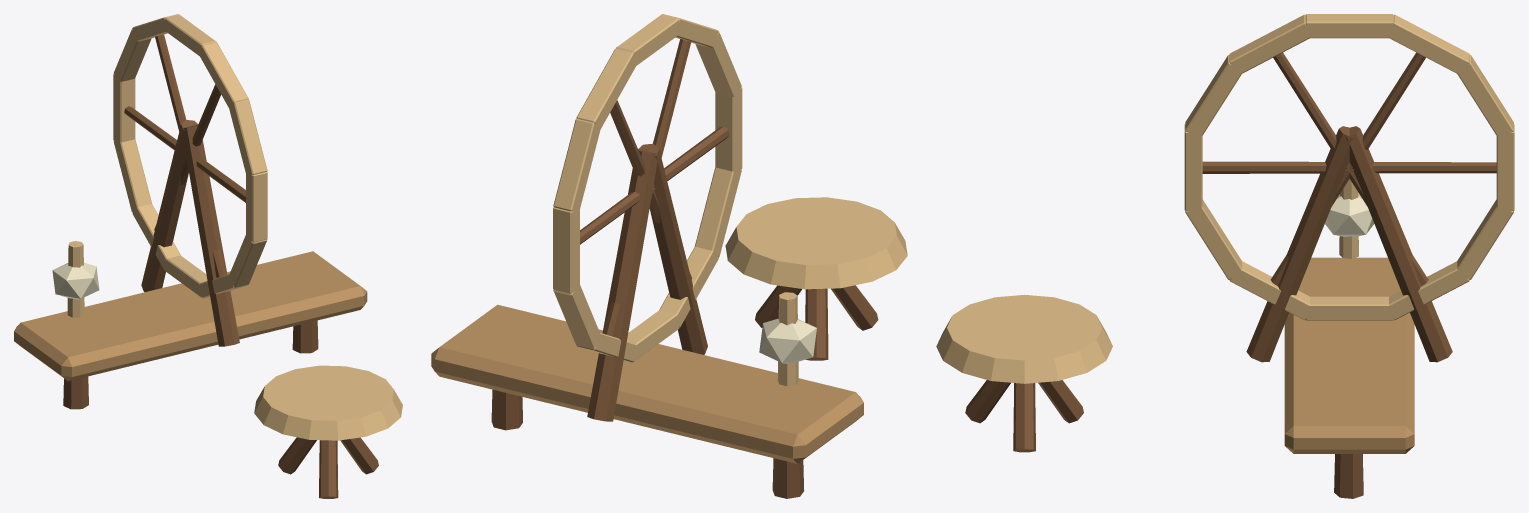
The model's file is CC_SpinningWheel.fbx.
The picture shows the model from 3 angles, left to right: view 1: azimuth 30°, elevation 25°; view 2: azimuth 150°, elevation 25°; view 3: azimuth 270°, elevation 25°; orthographic projection. The views are drawn at different scales.
Parts seen in each view (by area): view 1: Wheel bench, Stool seat, Wheel upright, Wheel upright.001, Rim.007, Rim.013, Rim.008, Rim.006, Yarn, Rim.002, Spoke.008, Spoke.009 (+14 smaller); view 2: Wheel bench, Stool seat, Wheel upright.001, Wheel upright, Rim.003, Rim.009, Rim.002, Rim.004, Yarn, Rim.008, Spoke.008, Spoke.010 (+14 smaller); view 3: Wheel bench, Stool seat, Wheel upright, Wheel upright.001, Spoke.008, Rim.005, Rim.011, Rim.006, Rim.004, Rim.003, Rim.007, Rim.013 (+13 smaller).
Boxes of the visible parts, box(x1,y1,x2,y2) form: Wheel bench: box(14, 251, 367, 381); Stool seat: box(254, 365, 402, 440); Wheel upright: box(181, 124, 239, 346); Wheel upright.001: box(141, 120, 197, 291); Rim.007: box(229, 99, 267, 175); Rim.013: box(114, 139, 151, 212); Rim.008: box(246, 171, 267, 242); Rim.006: box(200, 42, 248, 109); Yarn: box(52, 262, 99, 299); Rim.002: box(113, 74, 135, 144); Spoke.008: box(124, 106, 245, 202); Spoke.009: box(155, 34, 226, 277); Wheel bench: box(431, 304, 863, 463); Stool seat: box(725, 197, 907, 289); Wheel upright.001: box(587, 149, 658, 421); Wheel upright: box(638, 143, 707, 354); Rim.003: box(553, 119, 600, 211); Rim.009: box(694, 167, 741, 257); Rim.002: box(553, 207, 579, 293); Rim.004: box(576, 48, 637, 129); Yarn: box(759, 318, 816, 363); Rim.008: box(715, 87, 742, 171); Spoke.008: box(580, 126, 729, 244); Spoke.010: box(603, 39, 691, 337); Wheel bench: box(1284, 257, 1414, 453); Stool seat: box(936, 294, 1112, 383); Wheel upright: box(1246, 126, 1353, 362); Wheel upright.001: box(1346, 126, 1452, 362); Spoke.008: box(1202, 161, 1496, 173); Rim.005: box(1305, 14, 1393, 38); Rim.011: box(1306, 296, 1393, 320); Rim.006: box(1229, 14, 1312, 74); Rim.004: box(1387, 14, 1469, 73); Rim.003: box(1457, 55, 1513, 137); Rim.007: box(1185, 55, 1241, 137); Rim.013: box(1457, 199, 1513, 279).
Size of the model in its own units: 1.6 by 1.76 by 2.23.
